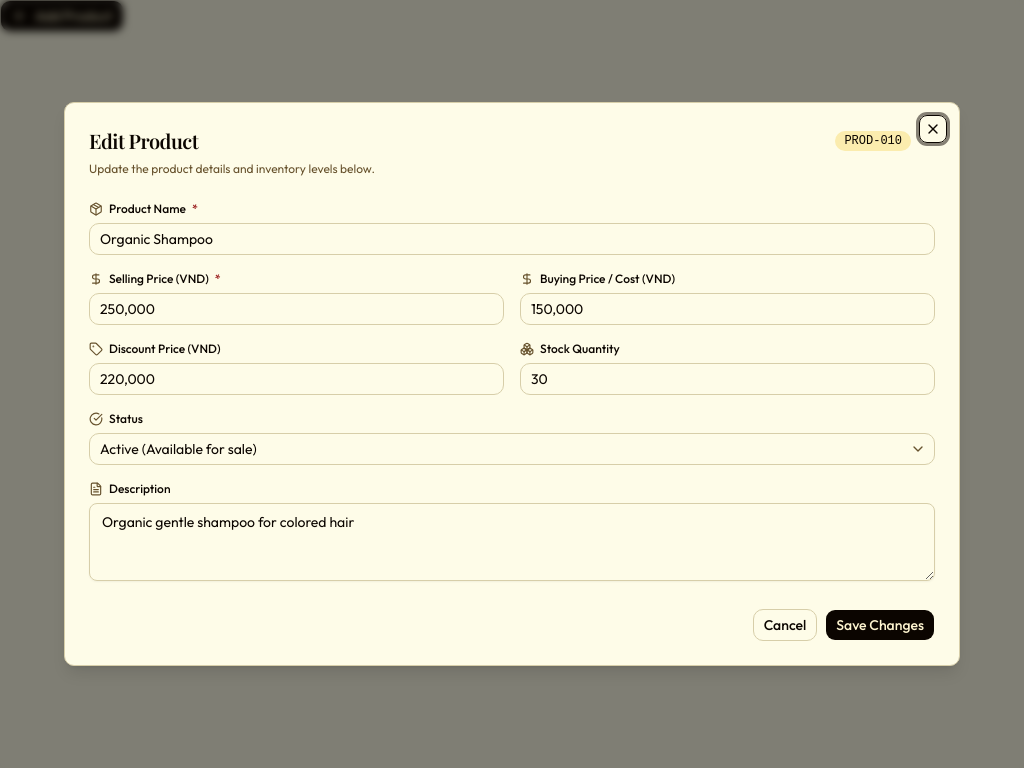
ProductFormDialog - Edit Mode › shows error banner when update action fails
Check: the field labelled "Product Name *" holds "Organic Shampoo", box [89,223,935,255]
Click the button "Save Changes".
click(880, 625)  # box [825,609,935,641]
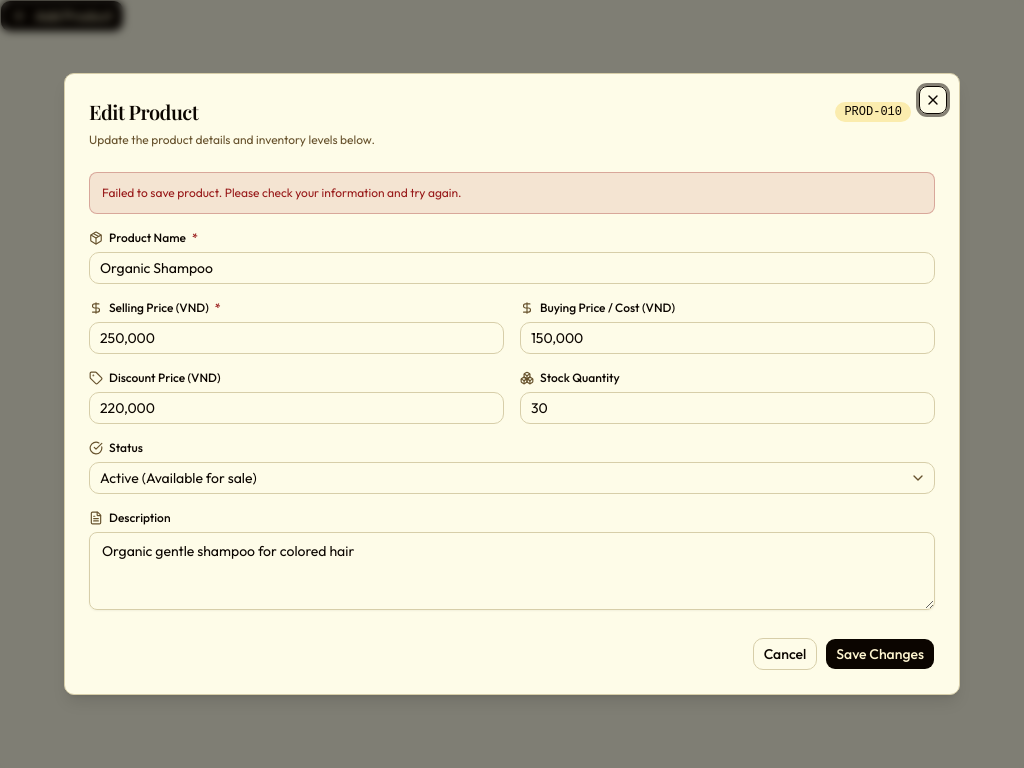
Check: the text "Failed to save product. Please check your information and try again." is shown, box [89,172,935,214]
